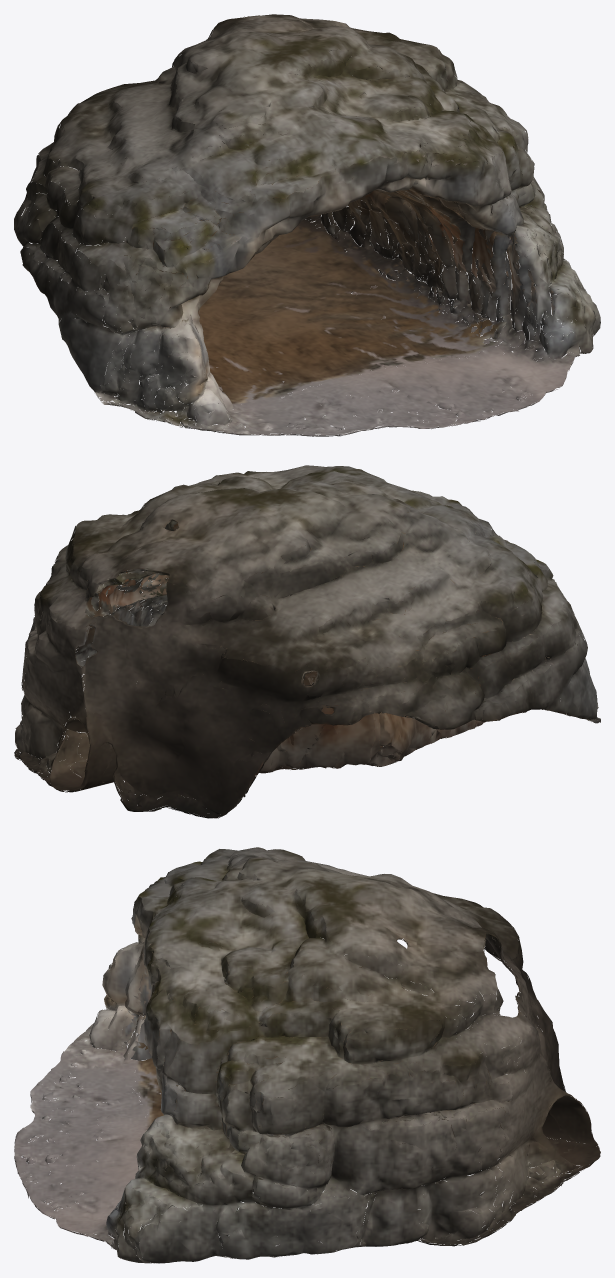
3 renders of one model, top to bottom at view 1: azimuth 30°, elevation 25°; view 2: azimuth 150°, elevation 25°; view 3: azimuth 270°, elevation 25°, orthographic. The views are drawn at different scales.
Visible parts, largest first — view 1: Mesh_0; view 2: Mesh_0; view 3: Mesh_0.
Part boxes in pixels (bbox=[...]): Mesh_0: bbox=[14, 14, 600, 436]; Mesh_0: bbox=[14, 465, 600, 818]; Mesh_0: bbox=[14, 847, 600, 1263].
Size of the model in its own units: 18.01 by 9.44 by 18.33.
Materials: 1 (1 with a texture image).
